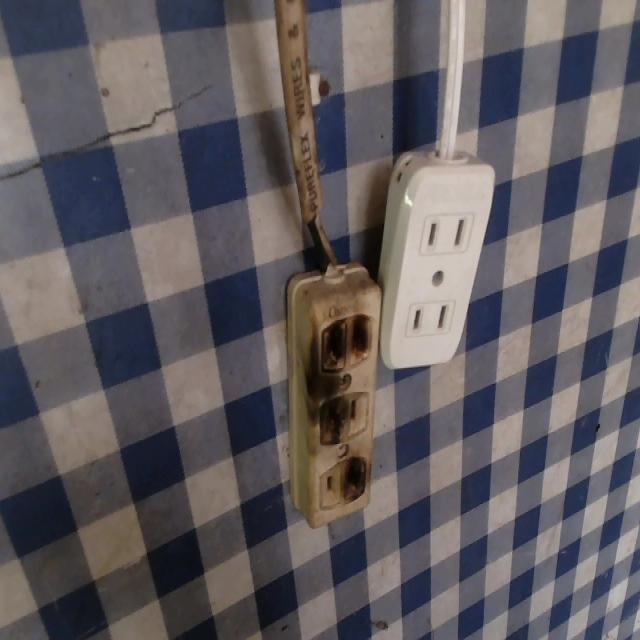-: (314, 310, 380, 374), (339, 448, 376, 512), (314, 391, 347, 448)
